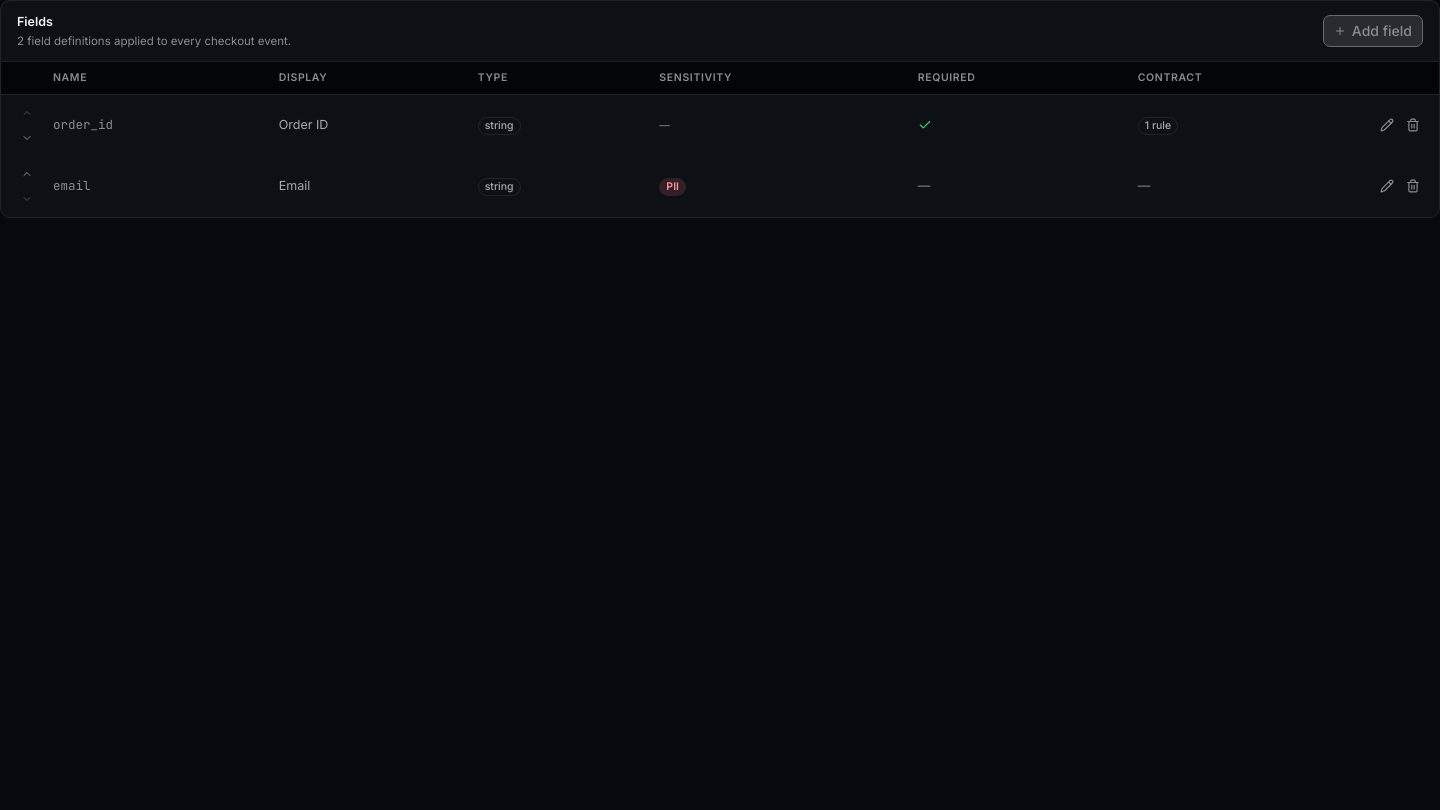
Test: FieldsEditor field edit subpage (PLAN-46) › asks before Cancel throws away a half-filled field, and keeps it on Cancel
This screenshot has width=1440, height=810.
Click the button "Add field" at (1373, 31), box [1323,15,1423,47]
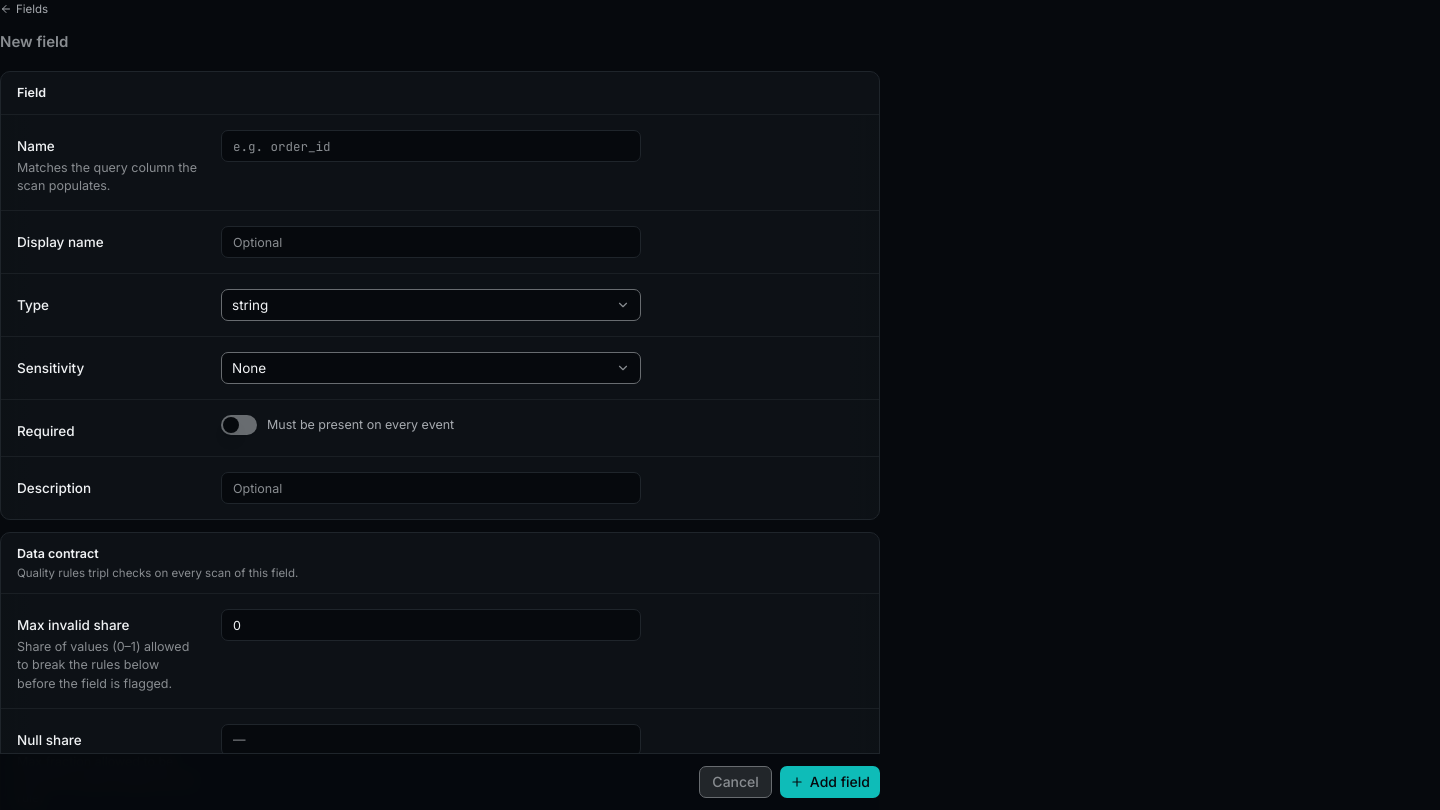
Type "order_id" into the field labelled "Name" at (431, 146), box [221,130,641,162]
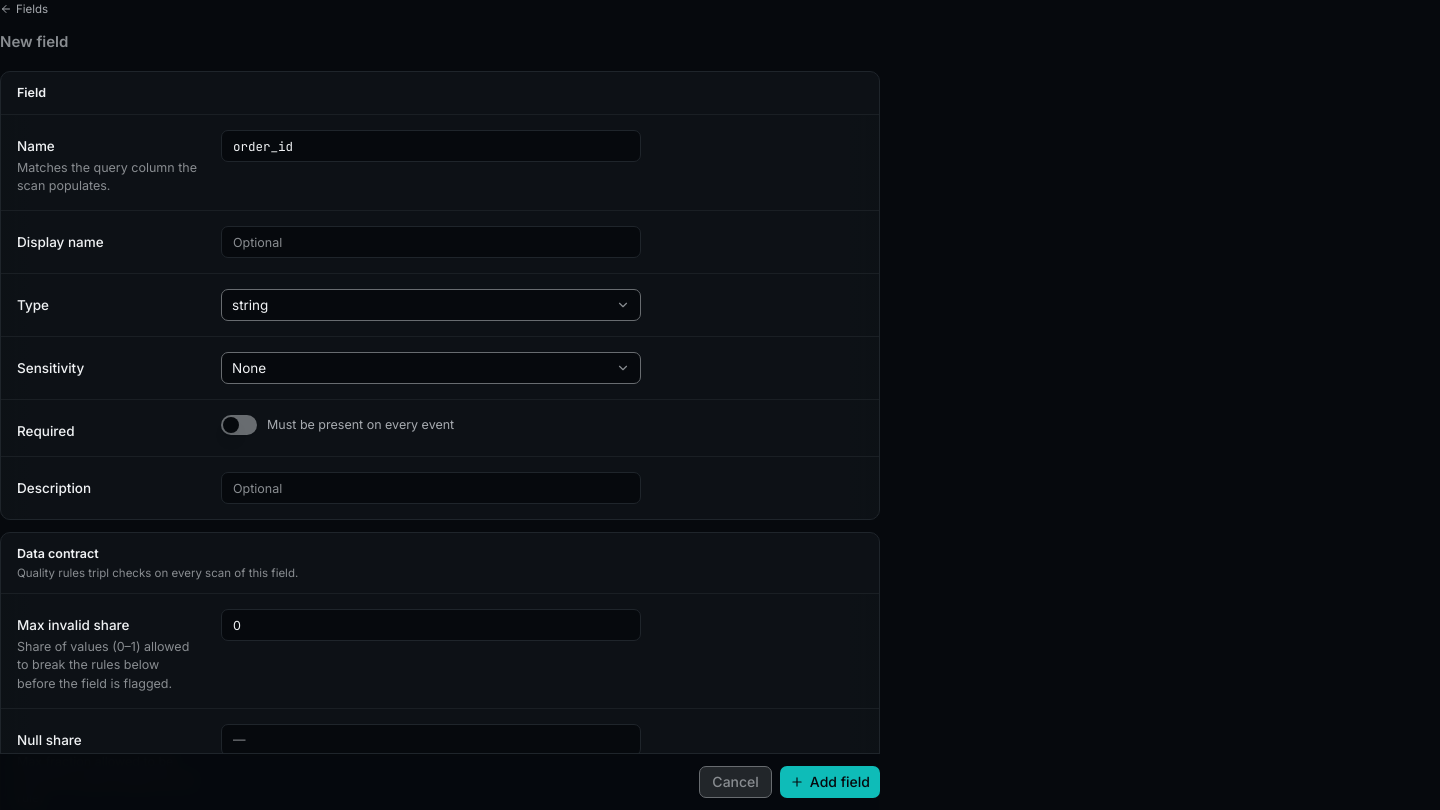
Click the button "Cancel" at (736, 782), box [699,766,772,798]
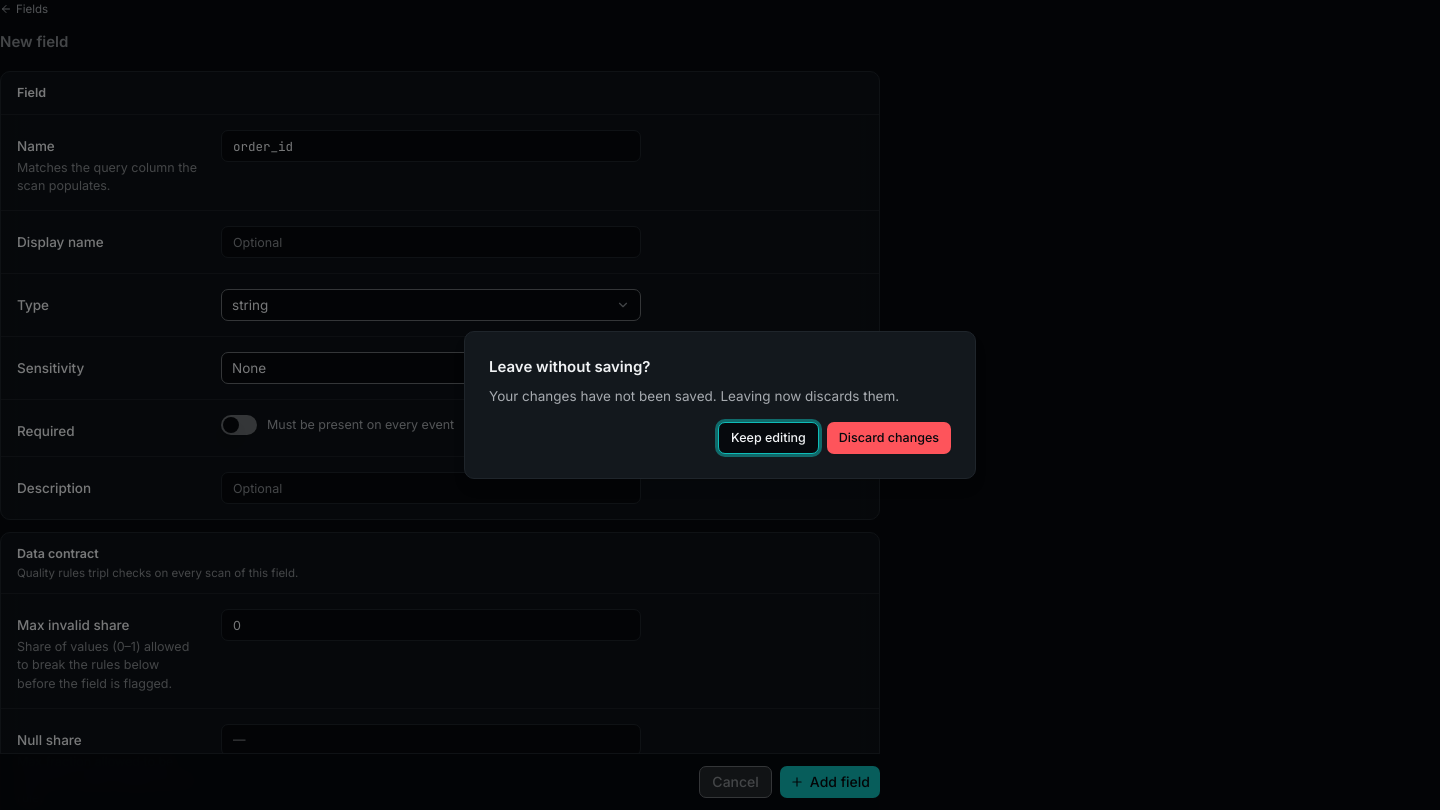
Click the button "Keep editing" at (768, 438), box [718,422,819,454]
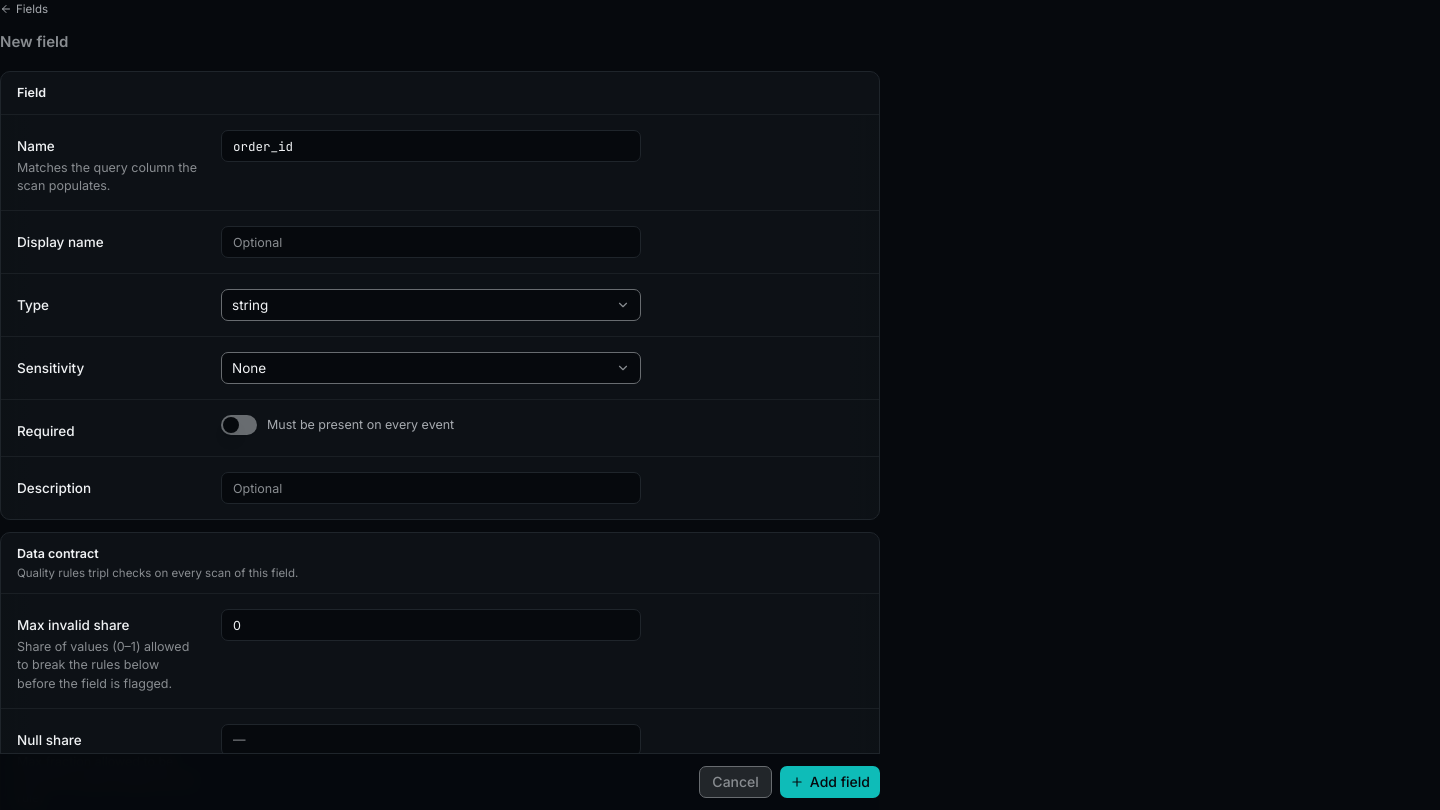
Now the dialog is gone
Click the button "Cancel" at (736, 782), box [699,766,772,798]
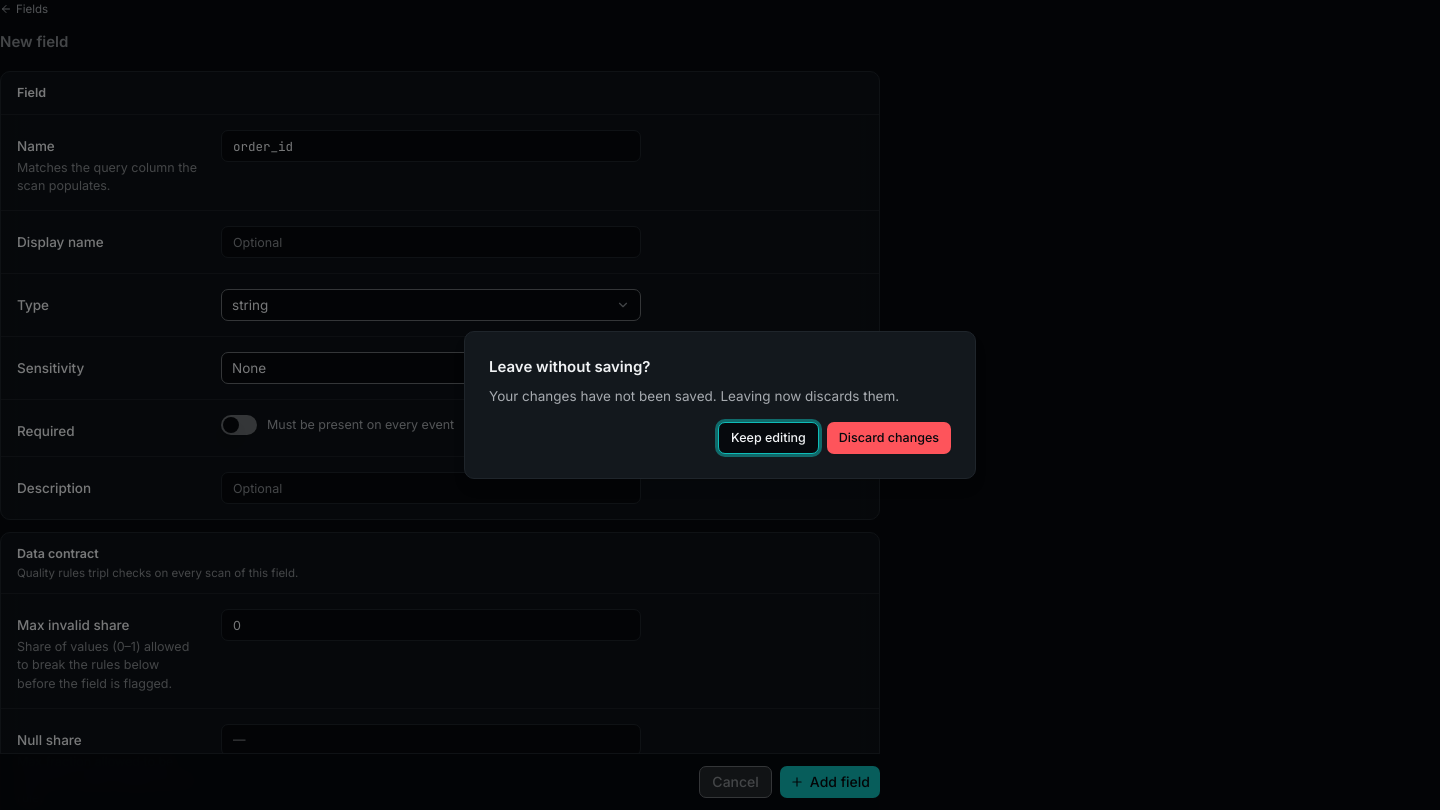
Click the button "Discard changes" at (889, 438), box [827,422,951,454]
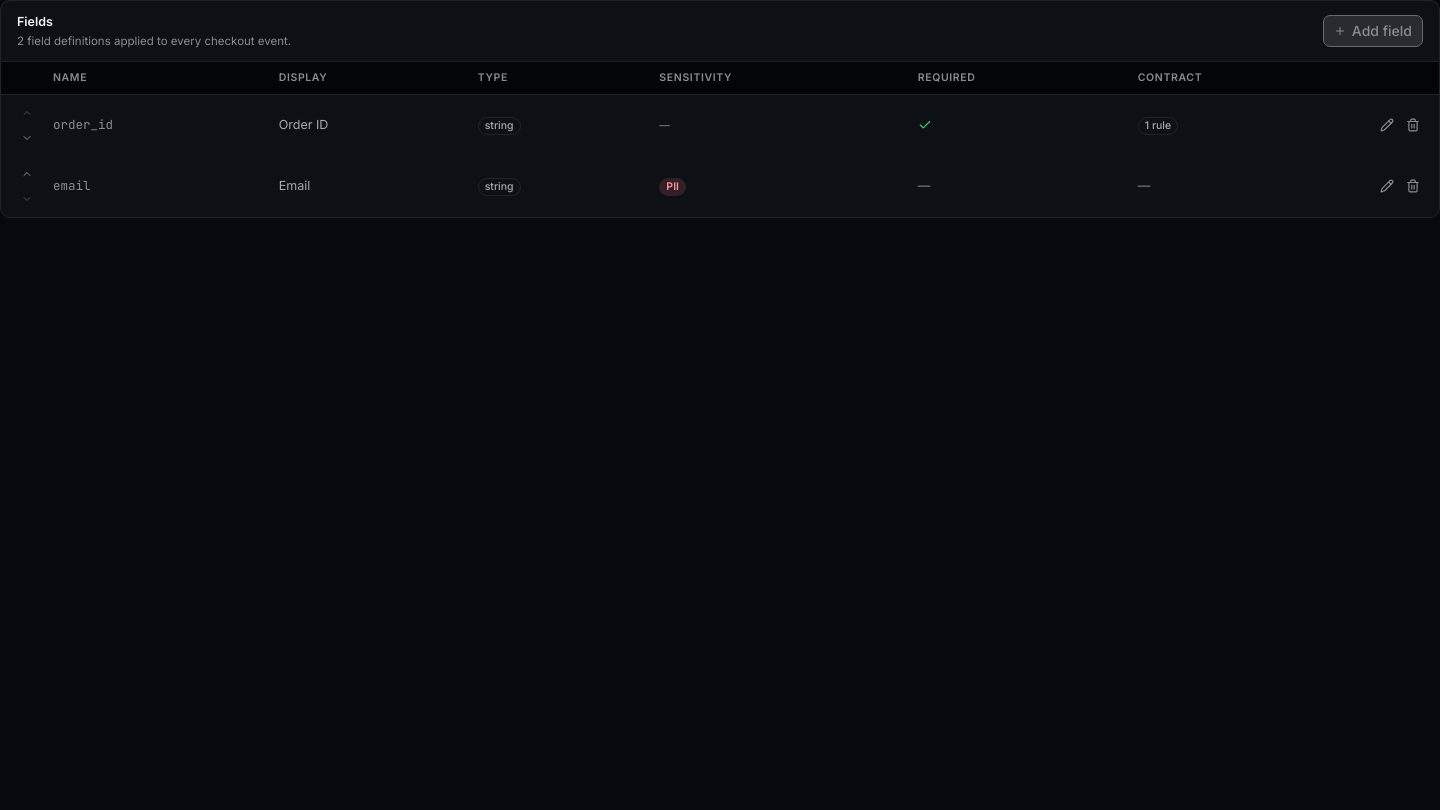
Now the heading "New field" is gone
